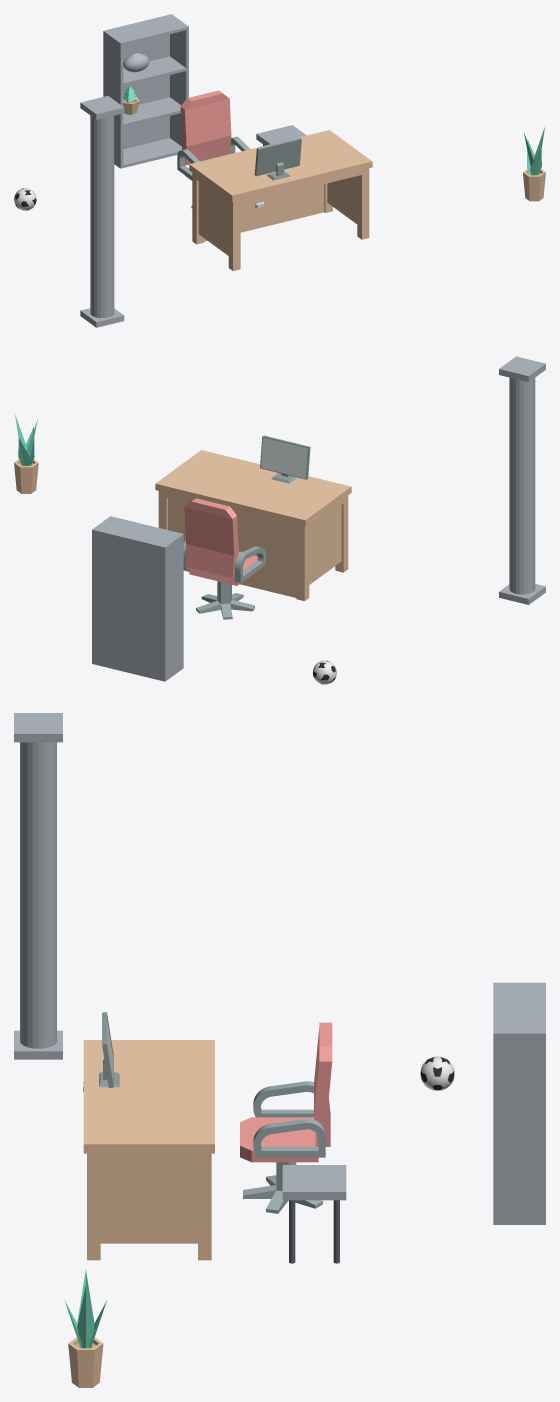
3 views of the same model, one above another, from view 1: azimuth 30°, elevation 25°; view 2: azimuth 150°, elevation 25°; view 3: azimuth 270°, elevation 25° (orthographic). The views are drawn at different scales.
Parts seen in each view (by area): view 1: desk_blue__desk(Clone), column_cyan__column_cyan shaft, deskchair_black__chair, shelf_orange__shelf_orange back, shelf_orange__shelf_orange side_l, shelf_orange__shelf_orange side_r, monitor_gray__computerScreen(Clone), shelf_orange__shelf_orange board3, shelf_orange__shelf_orange board0, shelf_orange__shelf_orange board1, shelf_orange__shelf_orange board2, column_cyan__column_cyan capital (+7 smaller); view 2: desk_blue__desk(Clone), shelf_orange__shelf_orange back, column_cyan__column_cyan shaft, deskchair_black__chair, shelf_orange__shelf_orange side_l, monitor_gray__computerScreen(Clone), shelf_orange__shelf_orange board3, deskchair_black__chairDesk(Clone), column_cyan__column_cyan capital, plant_pink__pottedPlant(Clone), plant_pink__plant, column_cyan__column_cyan plinth (+2 smaller); view 3: desk_blue__desk(Clone), column_cyan__column_cyan shaft, shelf_orange__shelf_orange side_r, deskchair_black__chair, shelf_orange__shelf_orange board3, stool_purple__stool_purple seat, column_cyan__column_cyan capital, plant_pink__pottedPlant(Clone), deskchair_black__chairDesk(Clone), plant_pink__plant, soccer_white__soccer_white, monitor_gray__computerScreen(Clone) (+1 smaller).
Part boxes in pixels (<box>): desk_blue__desk(Clone): <box>189,130,372,270</box>; column_cyan__column_cyan shaft: <box>90,115,114,317</box>; deskchair_black__chair: <box>177,90,250,180</box>; shelf_orange__shelf_orange back: <box>106,15,169,149</box>; shelf_orange__shelf_orange side_l: <box>103,30,123,168</box>; shelf_orange__shelf_orange side_r: <box>169,14,188,146</box>; monitor_gray__computerScreen(Clone): <box>254,137,301,180</box>; shelf_orange__shelf_orange board3: <box>107,15,186,45</box>; shelf_orange__shelf_orange board0: <box>123,138,181,167</box>; shelf_orange__shelf_orange board1: <box>123,97,181,126</box>; shelf_orange__shelf_orange board2: <box>123,56,186,86</box>; column_cyan__column_cyan capital: <box>80,96,124,119</box>; desk_blue__desk(Clone): <box>155,450,351,600</box>; shelf_orange__shelf_orange back: <box>95,529,162,680</box>; column_cyan__column_cyan shaft: <box>509,377,535,594</box>; deskchair_black__chair: <box>183,498,265,585</box>; shelf_orange__shelf_orange side_l: <box>162,533,183,681</box>; monitor_gray__computerScreen(Clone): <box>260,435,310,483</box>; shelf_orange__shelf_orange board3: <box>96,517,180,545</box>; deskchair_black__chairDesk(Clone): <box>196,581,254,619</box>; column_cyan__column_cyan capital: <box>499,356,545,382</box>; plant_pink__pottedPlant(Clone): <box>14,459,38,493</box>; plant_pink__plant: <box>15,414,37,465</box>; column_cyan__column_cyan plinth: <box>499,584,545,604</box>; desk_blue__desk(Clone): <box>83,1040,214,1260</box>; column_cyan__column_cyan shaft: <box>20,742,56,1048</box>; shelf_orange__shelf_orange side_r: <box>493,1031,545,1224</box>; deskchair_black__chair: <box>240,1022,332,1162</box>; shelf_orange__shelf_orange board3: <box>493,984,542,1031</box>; stool_purple__stool_purple seat: <box>282,1165,346,1200</box>; column_cyan__column_cyan capital: <box>14,713,62,742</box>; plant_pink__pottedPlant(Clone): <box>68,1337,103,1387</box>; deskchair_black__chairDesk(Clone): <box>243,1162,322,1213</box>; plant_pink__plant: <box>64,1269,106,1348</box>; soccer_white__soccer_white: <box>420,1056,454,1090</box>; monitor_gray__computerScreen(Clone): <box>99,1012,119,1088</box>.
Bounding box in the file's own units: 5.28 × 2.28 × 3.37.
